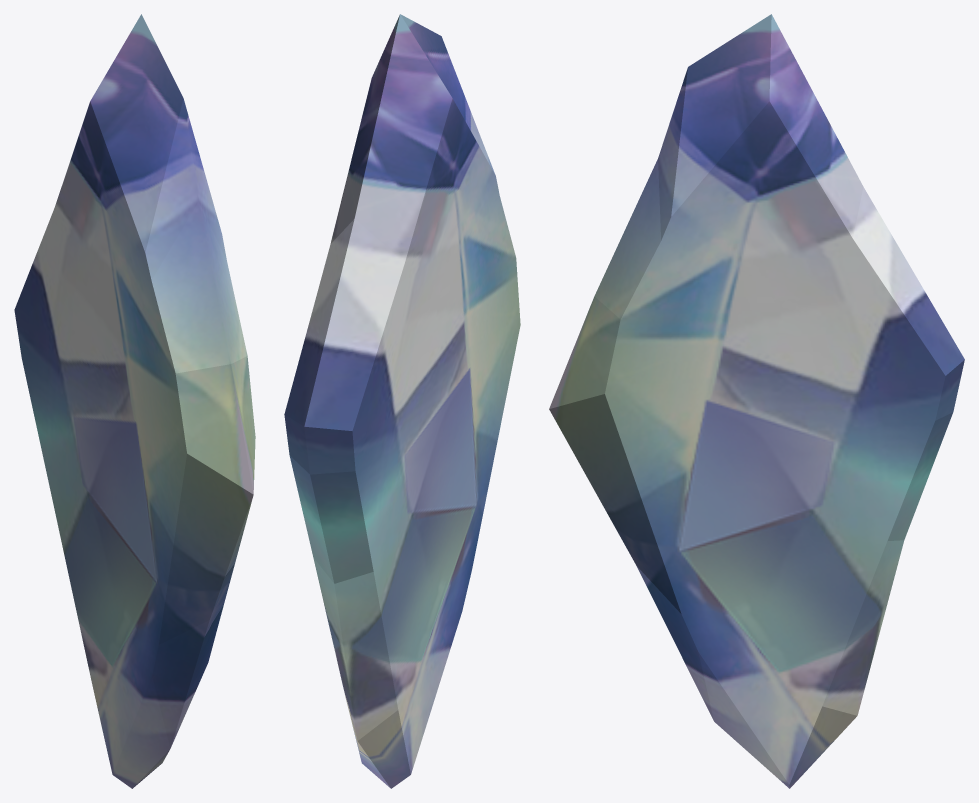
File: Skill 2 Mirror 3.glb
The picture shows the model from 3 angles, left to right: view 1: azimuth 30°, elevation 25°; view 2: azimuth 150°, elevation 25°; view 3: azimuth 270°, elevation 25°; orthographic projection.
Visible parts, largest first — view 1: cyrene_00_skill02_mirror03_LOD0; view 2: cyrene_00_skill02_mirror03_LOD0; view 3: cyrene_00_skill02_mirror03_LOD0.
Part boxes in pixels (x1,y1,x2,y2): cyrene_00_skill02_mirror03_LOD0: [14, 14, 255, 788]; cyrene_00_skill02_mirror03_LOD0: [284, 14, 520, 788]; cyrene_00_skill02_mirror03_LOD0: [549, 14, 964, 788].
Bounding box in the file's own units: 0.1504 × 1.37 × 0.6641.
1 material, 1 textured.
